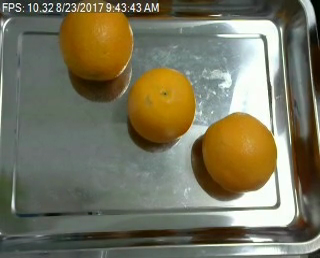Orange: (202, 110, 280, 191), (58, 3, 134, 81), (127, 67, 194, 142)
